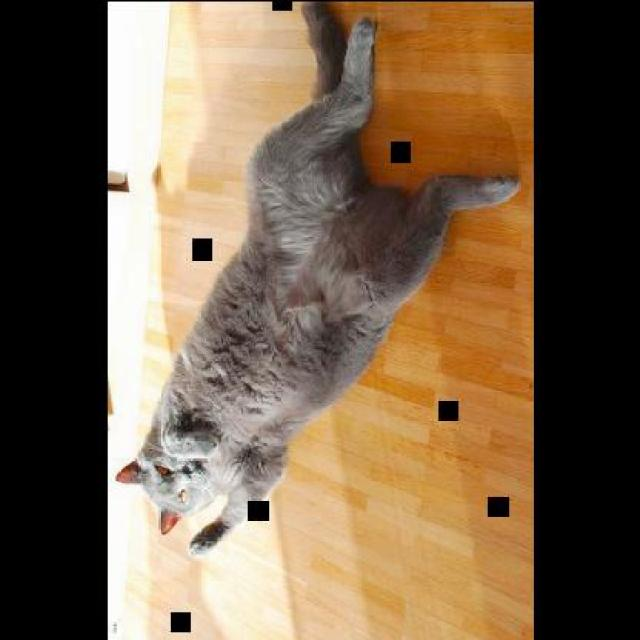unauthorized: (113, 0, 518, 555)
